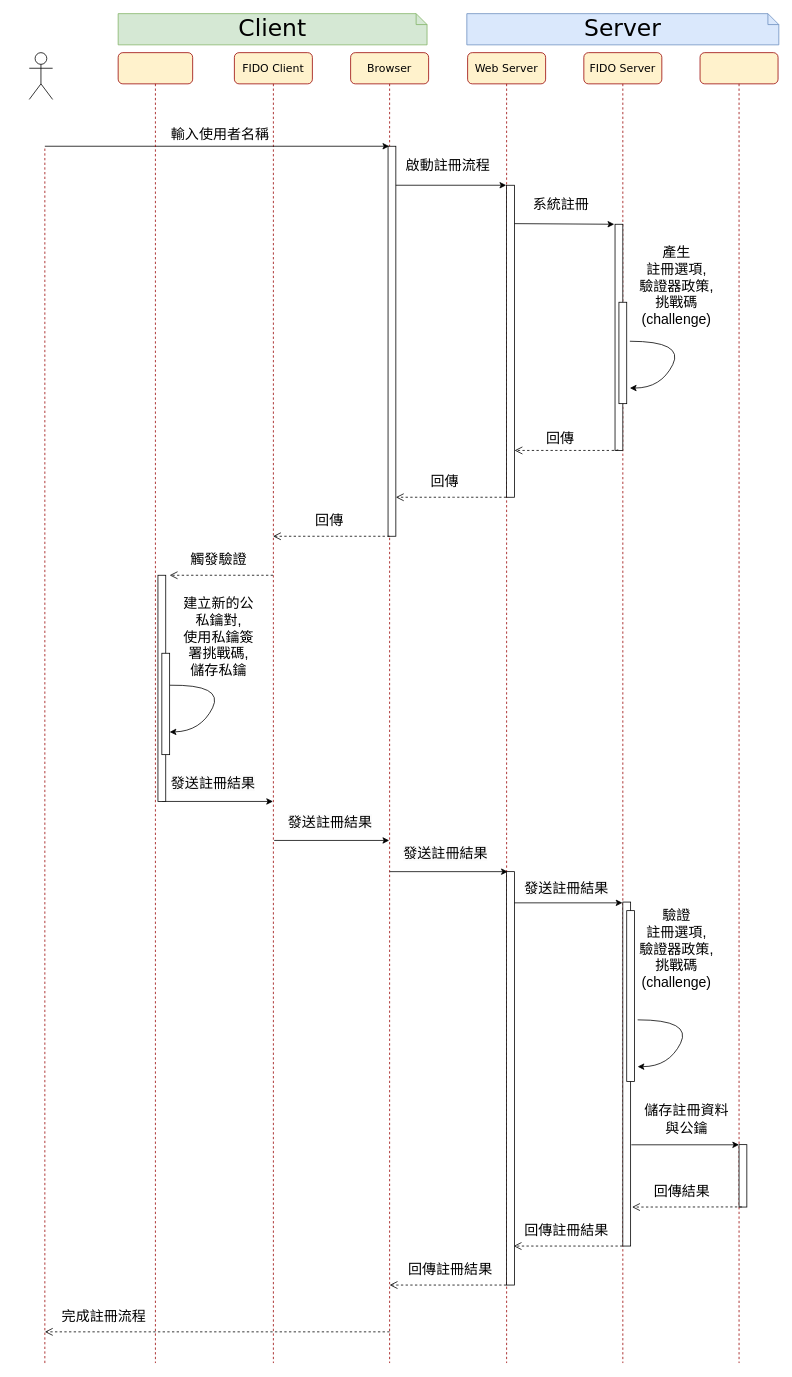
The diagram is 792 pixels wide and 1377 high, and some of its shapes have lost their labels. The shapes that lost their labels are listed below. From the top down, each one's box as (x1, y1, x2, y2) in pixels, then its label:
(28, 52, 53, 99): Actor
(117, 52, 193, 1363): Authenticator
(699, 52, 778, 1363): Database Server
